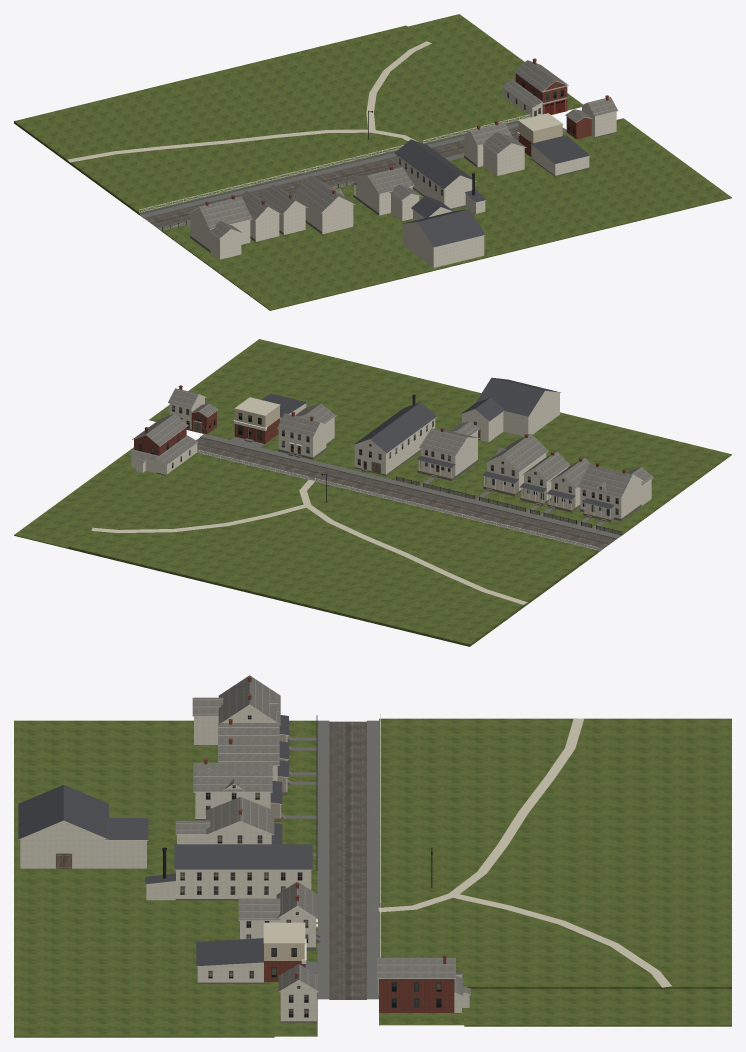
Rendered from sidestreet-court.glb.
3 views of the same model, one above another, from view 1: azimuth 30°, elevation 25°; view 2: azimuth 150°, elevation 25°; view 3: azimuth 270°, elevation 25° (orthographic). The views are drawn at different scales.
Visible parts, largest first — view 1: SidestreetCourt; view 2: SidestreetCourt; view 3: SidestreetCourt.
Boxes of the visible parts, x1=… form: SidestreetCourt: x1=14, y1=14, x2=731, y2=310; SidestreetCourt: x1=14, y1=339, x2=731, y2=646; SidestreetCourt: x1=14, y1=675, x2=731, y2=1037.
Size of the model in its own units: 127 by 11.07 by 122.
Materials: 7 (7 with a texture image).
